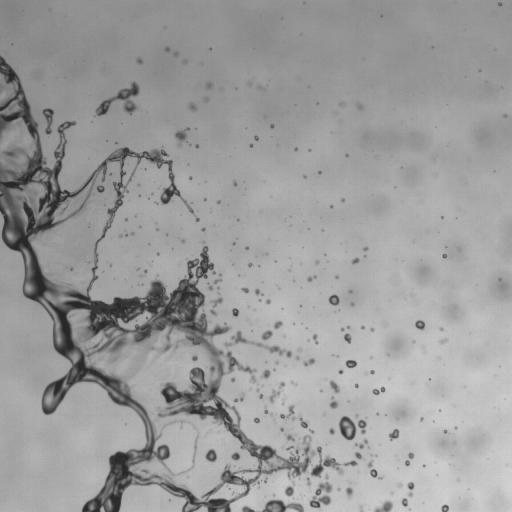droplet: (280, 404, 309, 428), (338, 416, 366, 440), (174, 127, 189, 145), (205, 448, 217, 462), (329, 380, 339, 393), (328, 294, 339, 305), (261, 330, 272, 340), (389, 429, 398, 441), (415, 320, 425, 330), (211, 297, 222, 306), (230, 452, 241, 461), (303, 358, 314, 366), (345, 360, 356, 368), (329, 397, 337, 408), (345, 487, 353, 498), (261, 369, 270, 378), (344, 333, 351, 342), (285, 433, 294, 440), (232, 308, 239, 316), (274, 321, 282, 328), (189, 103, 196, 110), (355, 452, 362, 459), (441, 504, 448, 511), (401, 498, 407, 506), (312, 334, 317, 343), (307, 276, 315, 281), (242, 287, 248, 293), (255, 289, 261, 295), (210, 309, 216, 315), (254, 417, 260, 423), (352, 258, 359, 263), (440, 338, 447, 343), (306, 478, 311, 485), (136, 58, 142, 63), (329, 428, 334, 434), (206, 83, 211, 88), (357, 104, 362, 109), (208, 284, 212, 290), (266, 299, 270, 304), (291, 381, 296, 385), (264, 408, 268, 413), (359, 506, 363, 511), (165, 47, 169, 51), (254, 136, 258, 140), (195, 217, 199, 221), (442, 254, 446, 258), (339, 369, 343, 373), (370, 370, 374, 374), (398, 483, 402, 487), (339, 103, 344, 106), (259, 86, 263, 89), (270, 124, 273, 128), (341, 198, 345, 201), (363, 247, 367, 250), (248, 263, 252, 266), (231, 377, 234, 381), (233, 182, 236, 185), (202, 228, 205, 231), (315, 260, 318, 263), (70, 267, 73, 270), (347, 325, 350, 328), (440, 327, 443, 330), (341, 328, 344, 331), (298, 348, 301, 351), (355, 384, 358, 387), (259, 394, 262, 397), (444, 429, 447, 432), (498, 3, 501, 5), (504, 114, 506, 117), (294, 148, 297, 150), (345, 154, 348, 156), (189, 176, 191, 179), (217, 201, 220, 203), (119, 234, 121, 237), (246, 246, 248, 249), (144, 270, 147, 272), (351, 303, 354, 305), (361, 326, 364, 328), (371, 328, 373, 331), (282, 401, 284, 404), (420, 418, 423, 420), (280, 428, 283, 430), (175, 53, 177, 55), (249, 82, 251, 84), (196, 145, 198, 147), (303, 175, 305, 177), (330, 205, 332, 207), (182, 240, 184, 242), (335, 275, 337, 277), (175, 358, 177, 360), (256, 389, 258, 391), (356, 415, 358, 417), (163, 425, 165, 427), (455, 427, 457, 429), (218, 430, 220, 432)
ligament: (0, 56, 341, 511), (96, 82, 139, 115), (309, 474, 332, 509), (180, 436, 198, 474), (260, 498, 303, 511), (269, 382, 285, 403), (42, 108, 53, 134), (372, 500, 392, 511), (367, 461, 378, 477), (405, 452, 413, 466), (355, 439, 367, 448), (372, 386, 385, 394), (407, 482, 414, 496), (168, 419, 187, 424), (234, 393, 244, 402), (241, 506, 256, 511), (344, 460, 356, 466), (214, 274, 221, 284)
